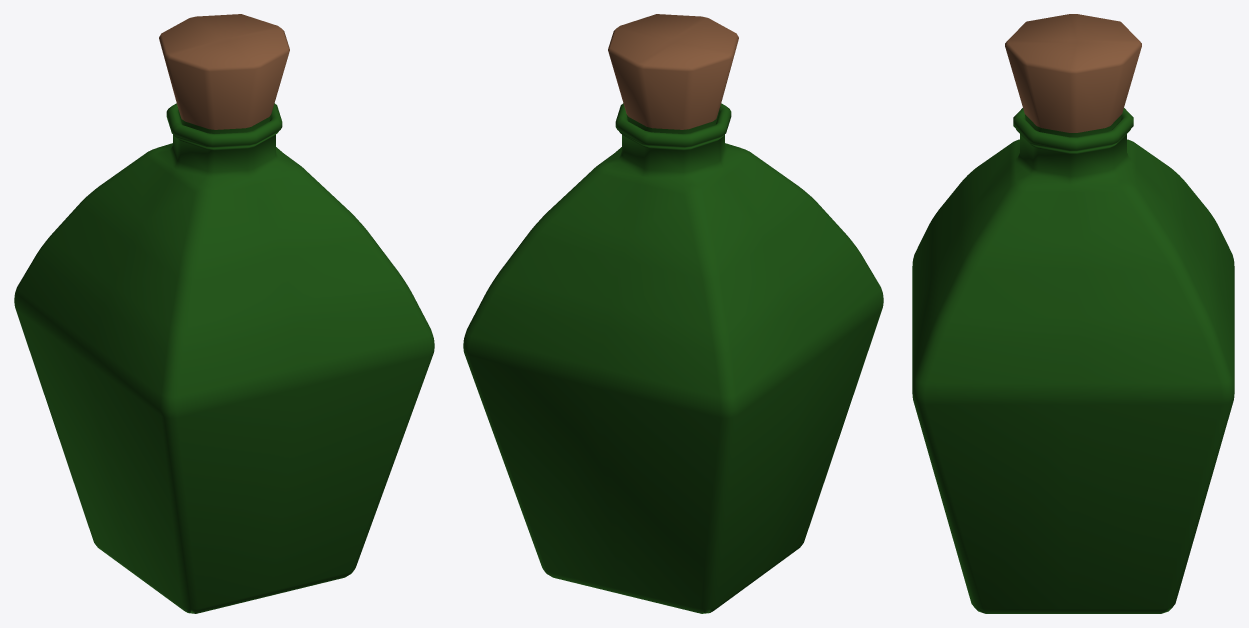
Rendered from potion 4.fbx.
3 views of the same model, side by side, from view 1: azimuth 30°, elevation 25°; view 2: azimuth 150°, elevation 25°; view 3: azimuth 270°, elevation 25° (orthographic). The views are drawn at different scales.
Visible parts, largest first — view 1: Potion 1.006; view 2: Potion 1.006; view 3: Potion 1.006.
Boxes of the visible parts, bbox=[...] form: Potion 1.006: bbox=[14, 14, 434, 613]; Potion 1.006: bbox=[463, 14, 883, 613]; Potion 1.006: bbox=[912, 14, 1234, 613].
Size of the model in its own units: 7.95 by 7.95 by 14.57.
